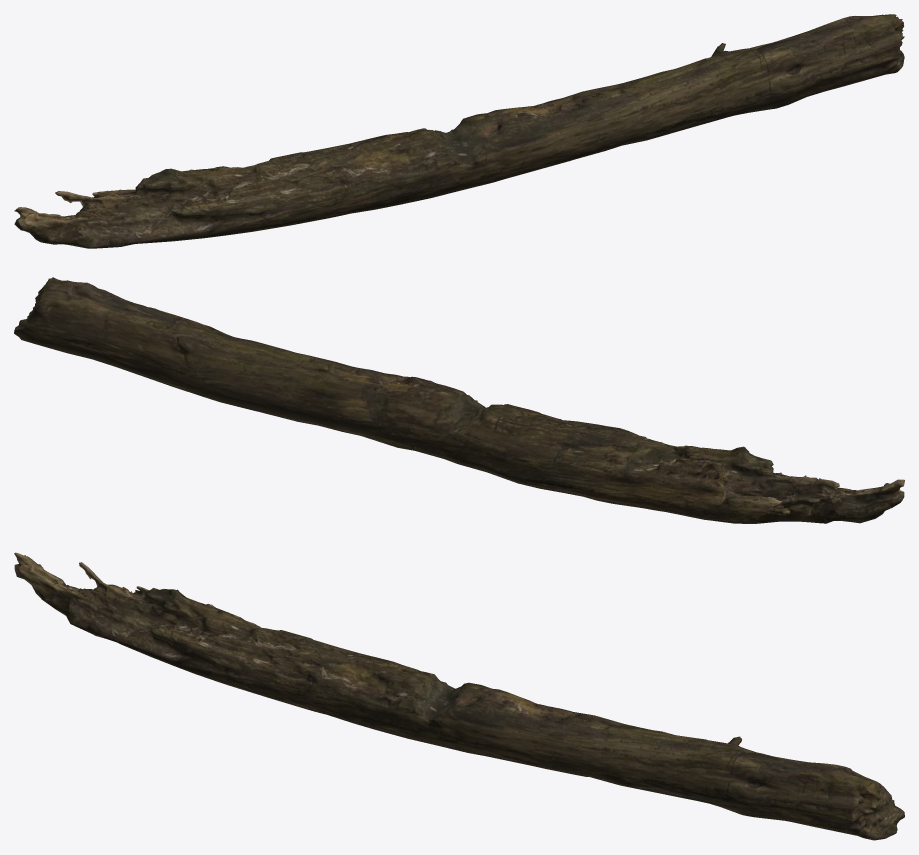
File: dead_tree_trunk.glb
3 renders of one model, top to bottom at view 1: azimuth 30°, elevation 25°; view 2: azimuth 150°, elevation 25°; view 3: azimuth 330°, elevation 25°, orthographic.
Parts seen in each view (by area): view 1: dead_tree_trunk; view 2: dead_tree_trunk; view 3: dead_tree_trunk.
Part boxes in pixels (bbox=[...]): dead_tree_trunk: bbox=[14, 14, 904, 248]; dead_tree_trunk: bbox=[14, 277, 904, 523]; dead_tree_trunk: bbox=[14, 552, 904, 840].
Bounding box in the file's own units: 3.05 × 0.2898 × 0.2766.
1 material, 1 textured.
